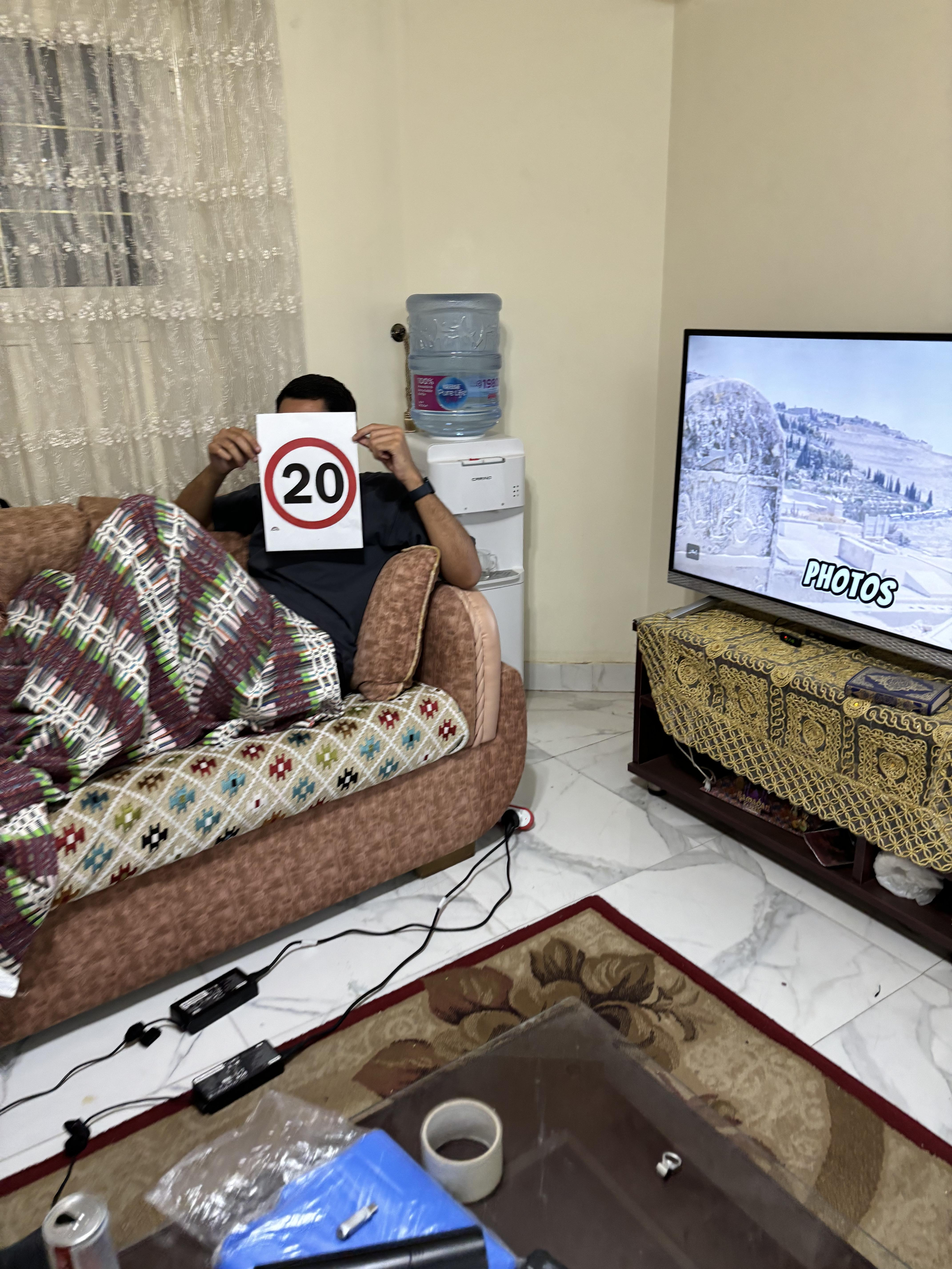20-Speed: (258, 429, 364, 532)
